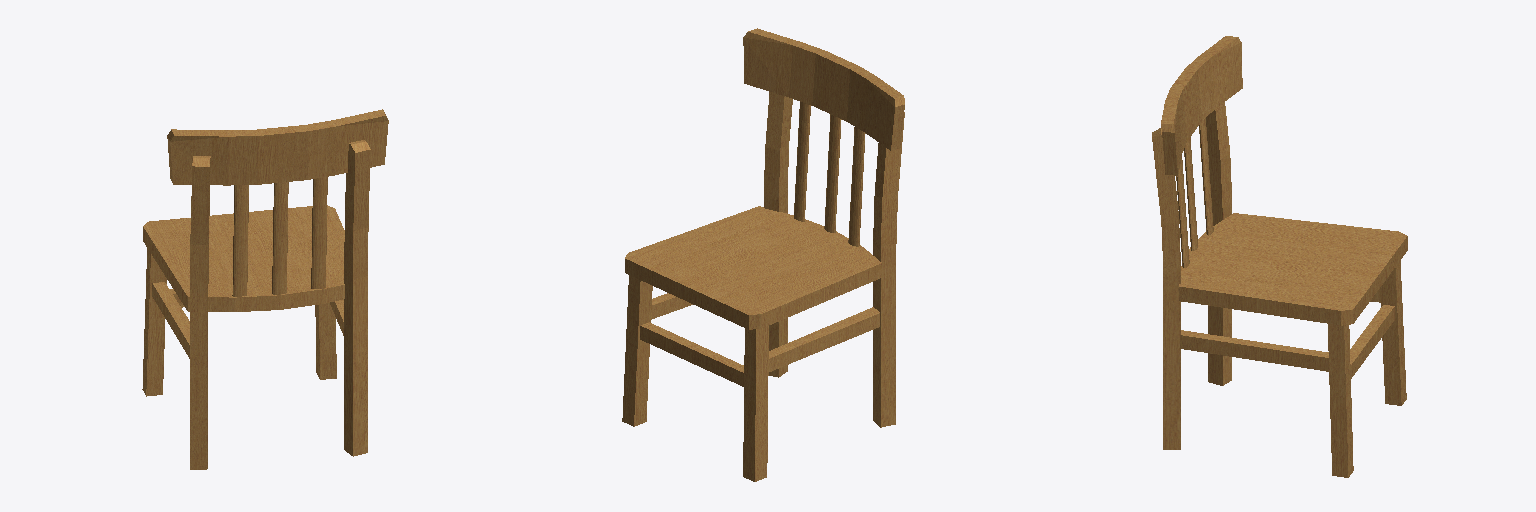
3 renders of one model, left to right at view 1: azimuth 30°, elevation 25°; view 2: azimuth 150°, elevation 25°; view 3: azimuth 270°, elevation 25°, orthographic.
Visible parts, largest first — view 1: seat; view 2: seat; view 3: seat.
Boxes of the visible parts, x1=… form: seat: x1=142, y1=109, x2=388, y2=469; seat: x1=622, y1=28, x2=904, y2=481; seat: x1=1152, y1=36, x2=1407, y2=477.
Bounding box in the file's own units: 0.5364 × 0.7714 × 0.5325.
Materials: 1 (1 with a texture image).